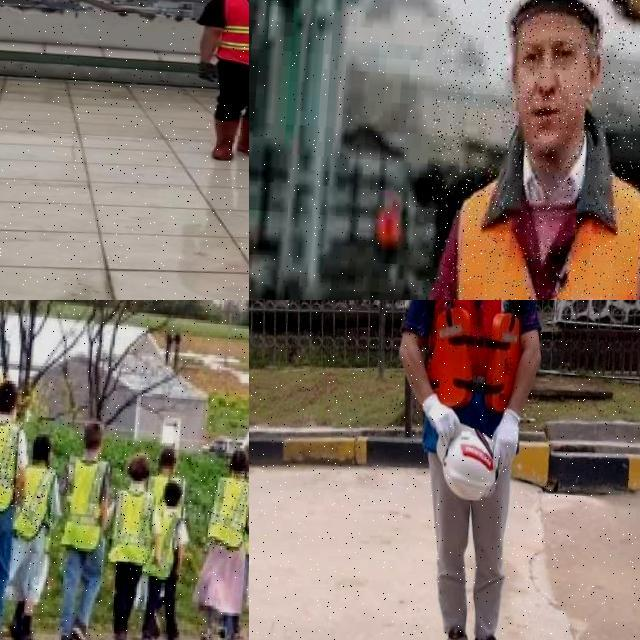boots: (209, 116, 244, 162), (234, 111, 249, 160), (436, 625, 471, 640)
helmet: (428, 420, 502, 504), (503, 0, 612, 41), (0, 360, 19, 408)
vest: (437, 151, 640, 300), (411, 300, 535, 456), (60, 454, 106, 547), (114, 488, 153, 574), (208, 474, 249, 550), (21, 464, 54, 540), (213, 0, 249, 67), (0, 417, 24, 507)
